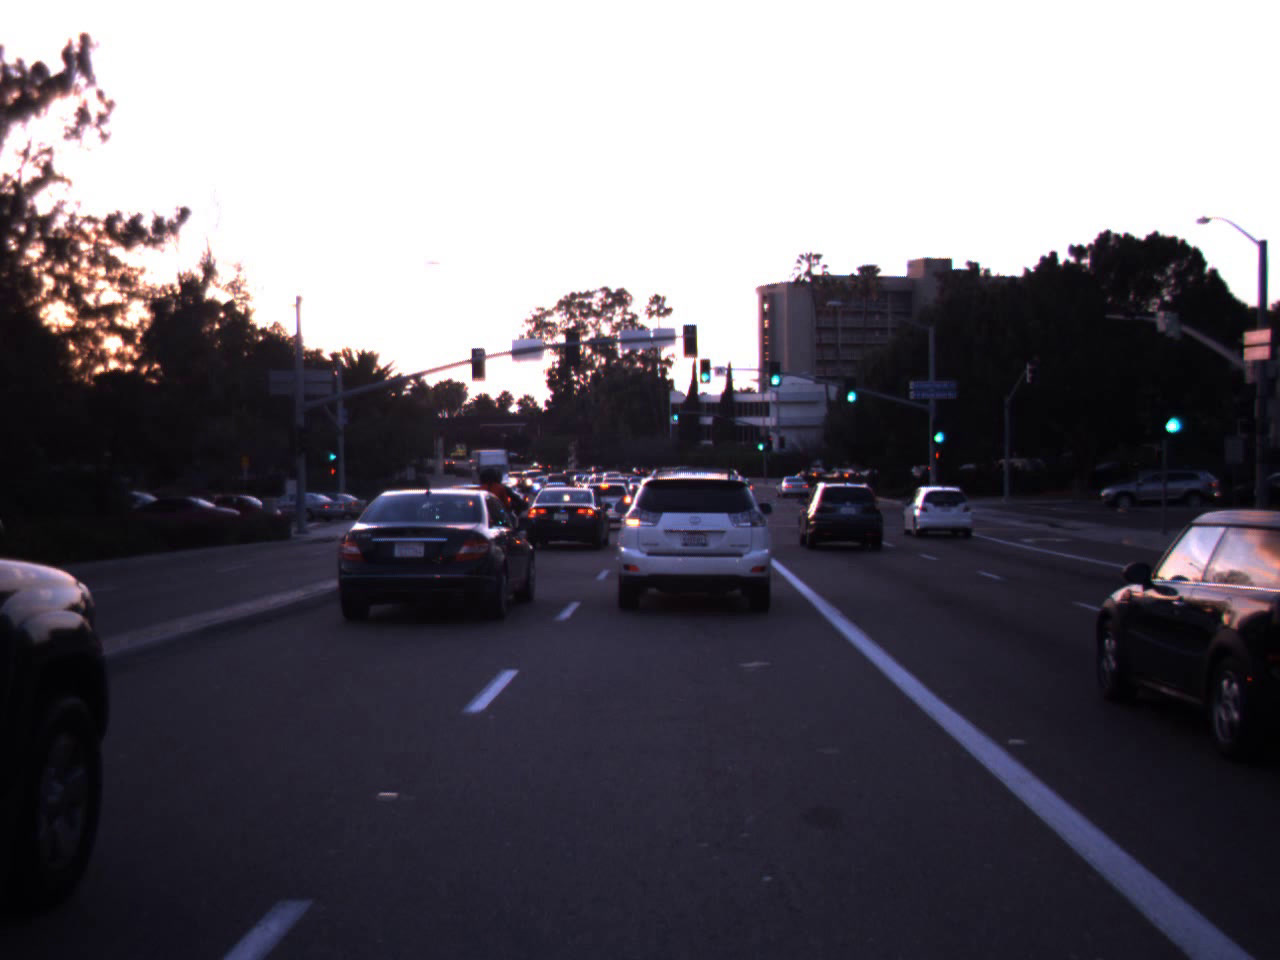go: (1154, 373, 1193, 438), (926, 397, 953, 447), (765, 348, 786, 388), (841, 365, 862, 405), (695, 346, 716, 386), (753, 427, 768, 452), (327, 441, 339, 461), (669, 402, 681, 422)
